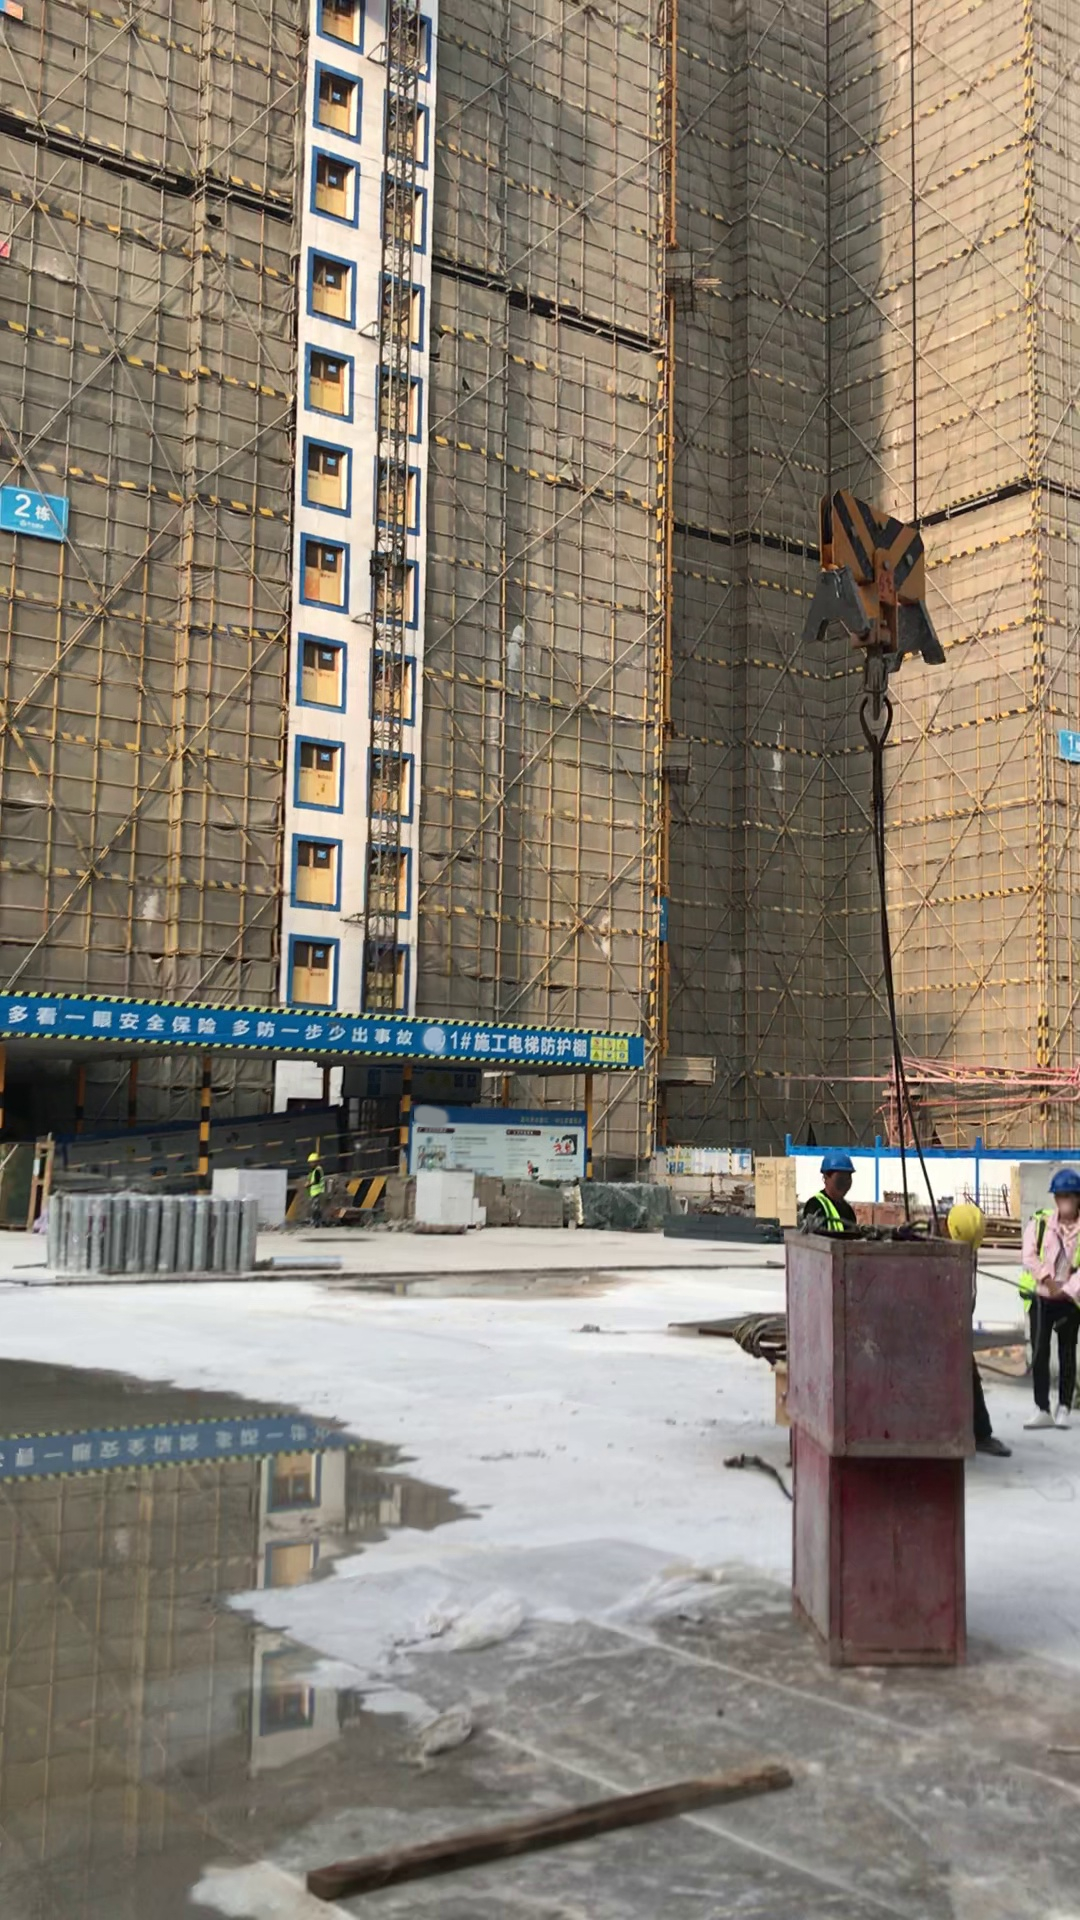brick: (202, 1158, 302, 1231), (412, 1164, 482, 1228)
ebox: (756, 1352, 806, 1454)
fence: (50, 1124, 416, 1193)
helmet: (946, 1188, 990, 1256), (814, 1142, 867, 1182), (1046, 1158, 1064, 1208), (304, 1148, 325, 1165)
hook: (771, 467, 971, 792)
person: (931, 1199, 1031, 1468), (1023, 1158, 1080, 1444), (803, 1145, 872, 1260), (301, 1144, 343, 1235)
slogan: (4, 969, 653, 1084), (408, 1107, 618, 1194), (1, 460, 82, 569), (650, 1135, 759, 1179), (1046, 699, 1080, 764)
vest: (807, 1187, 850, 1234), (1014, 1249, 1042, 1318), (304, 1164, 330, 1201)
wood: (478, 1173, 568, 1230), (383, 1173, 415, 1222)
